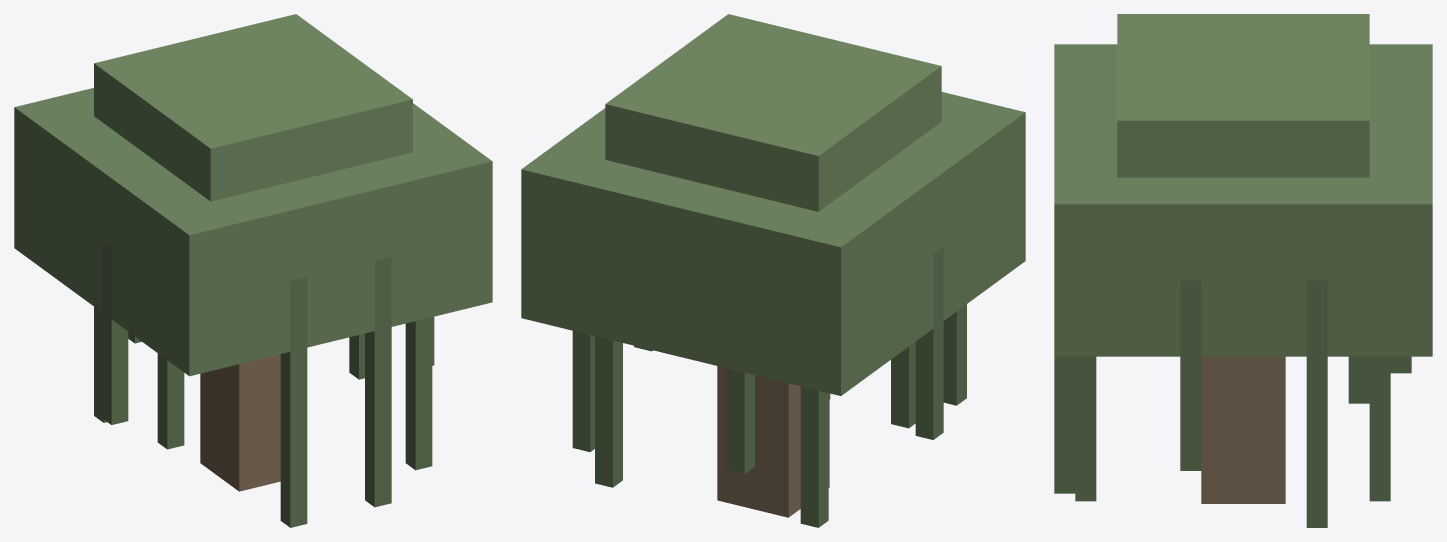
Rendered from sauce_lloron_04.glb.
The picture shows the model from 3 angles, left to right: view 1: azimuth 30°, elevation 25°; view 2: azimuth 150°, elevation 25°; view 3: azimuth 270°, elevation 25°; orthographic projection. The views are drawn at different scales.
Visible parts, largest first — view 1: sauce_lloron_04; view 2: sauce_lloron_04; view 3: sauce_lloron_04.
Part boxes in pixels (x1=…): sauce_lloron_04: x1=14, y1=14, x2=492, y2=527; sauce_lloron_04: x1=521, y1=14, x2=1025, y2=527; sauce_lloron_04: x1=1054, y1=14, x2=1432, y2=527.
Size of the model in its own units: 1.8 by 2.2 by 1.8.
